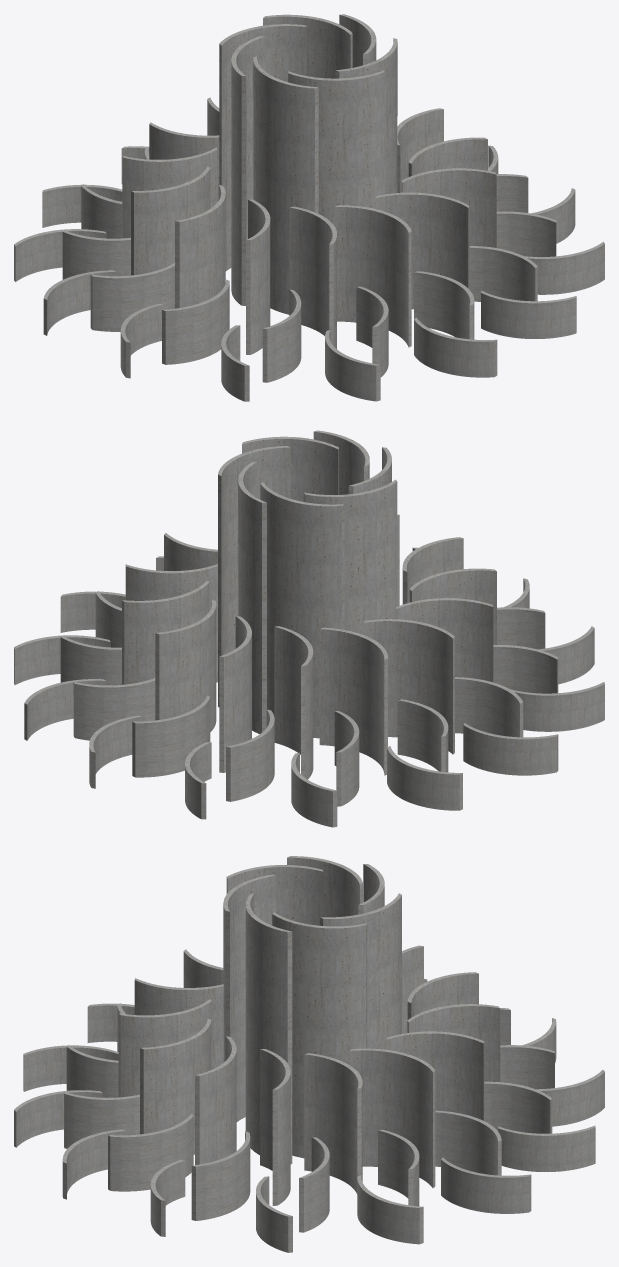
The model's file is 3dmodel.gltf.
The picture shows the model from 3 angles, top to bottom: view 1: azimuth 30°, elevation 25°; view 2: azimuth 150°, elevation 25°; view 3: azimuth 270°, elevation 25°; orthographic projection.
Visible parts, largest first — view 1: 3dmodel; view 2: 3dmodel; view 3: 3dmodel.
Boxes of the visible parts, <box> form: 3dmodel: <box>14,14,604,401</box>; 3dmodel: <box>14,430,604,827</box>; 3dmodel: <box>14,856,604,1252</box>.
Size of the model in its own units: 0.2684 by 0.1155 by 0.2659.
Materials: 1 (1 with a texture image).
